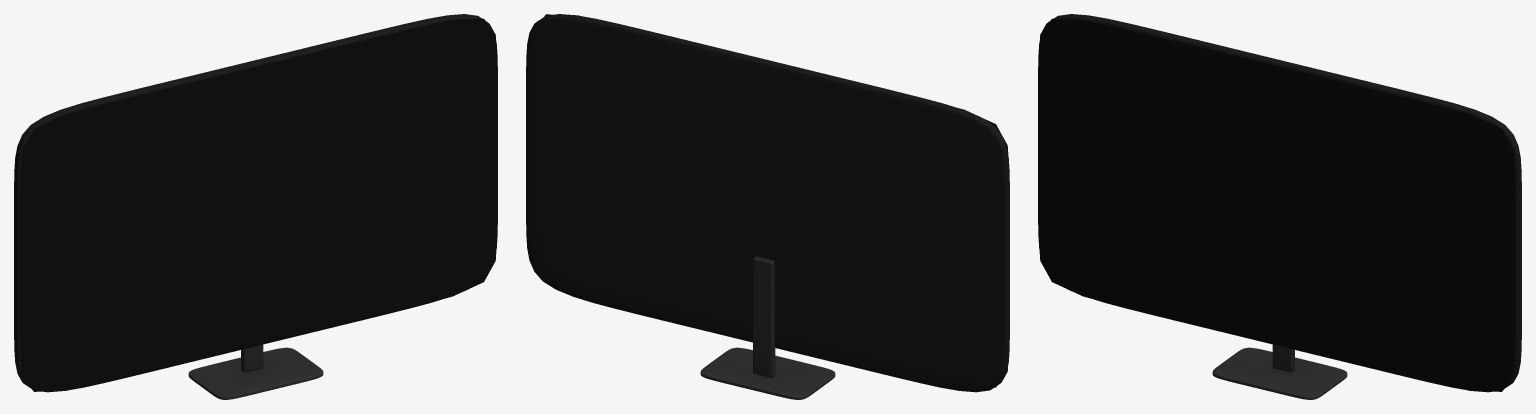
The model's file is 65-inch-pedestal.glb.
3 views of the same model, side by side, from view 1: azimuth 30°, elevation 25°; view 2: azimuth 150°, elevation 25°; view 3: azimuth 330°, elevation 25° (orthographic).
Parts seen in each view (by area): view 1: screen_glass, tv_body, aluminium; view 2: tv_body, aluminium; view 3: screen_glass, tv_body, aluminium.
Part boxes in pixels (x1=…): screen_glass: x1=20, y1=18, x2=497, y2=391; tv_body: x1=14, y1=14, x2=497, y2=392; aluminium: x1=188, y1=344, x2=323, y2=399; tv_body: x1=526, y1=14, x2=1009, y2=392; aluminium: x1=700, y1=256, x2=835, y2=399; screen_glass: x1=1038, y1=18, x2=1515, y2=391; tv_body: x1=1038, y1=14, x2=1521, y2=392; aluminium: x1=1212, y1=344, x2=1347, y2=399.
Size of the model in its own units: 1.45 by 0.9056 by 0.2.
3 materials, 1 textured.
